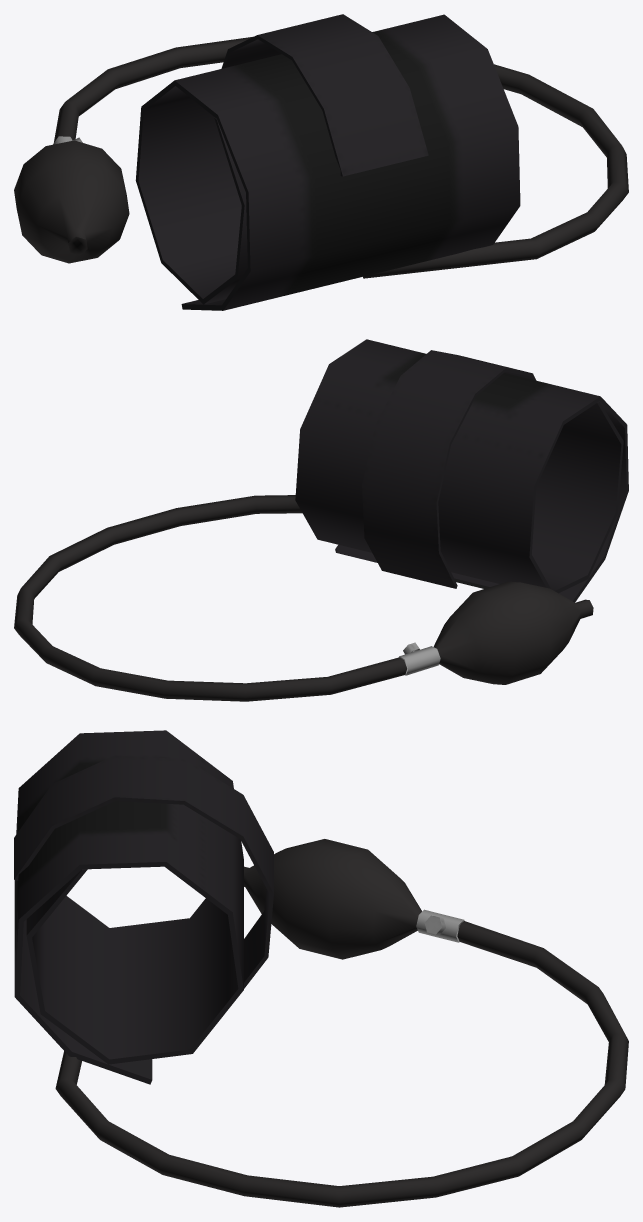
Rendered from PolygraphCuff.fbx.
3 renders of one model, top to bottom at view 1: azimuth 30°, elevation 25°; view 2: azimuth 150°, elevation 25°; view 3: azimuth 270°, elevation 25°, orthographic. The views are drawn at different scales.
Parts seen in each view (by area): view 1: Cuff_LOD0; view 2: Cuff_LOD0; view 3: Cuff_LOD0.
Boxes of the visible parts, <box> form: Cuff_LOD0: <box>14,14,628,310</box>; Cuff_LOD0: <box>14,339,628,701</box>; Cuff_LOD0: <box>14,730,628,1207</box>.
Size of what is drawn, in the model's own units: 23.73 by 9.81 by 21.75.
